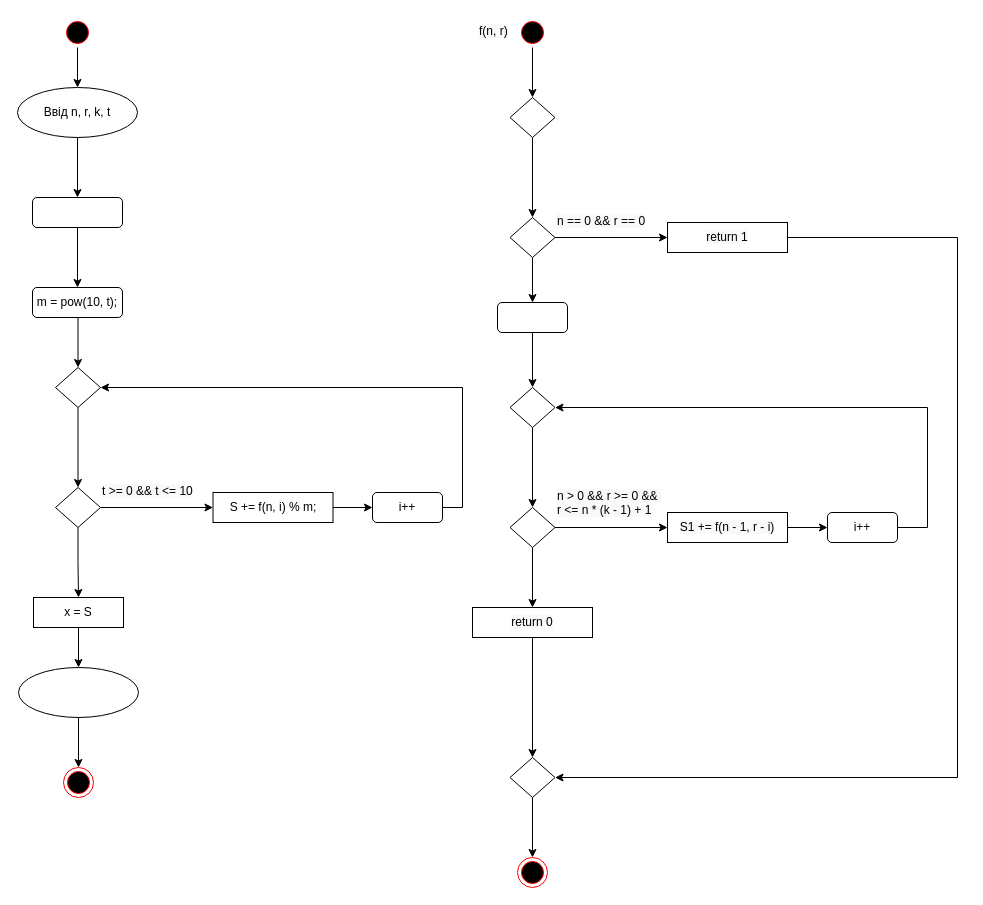
Some shapes in this 983 by 905 pixel diagram are drawn without their labels. Each missing label, with the box of its shape:
i <= n * (k - 1);: (32, 196, 122, 228)
i = 0: (496, 302, 568, 332)
Вивід x, f: (18, 666, 138, 718)
